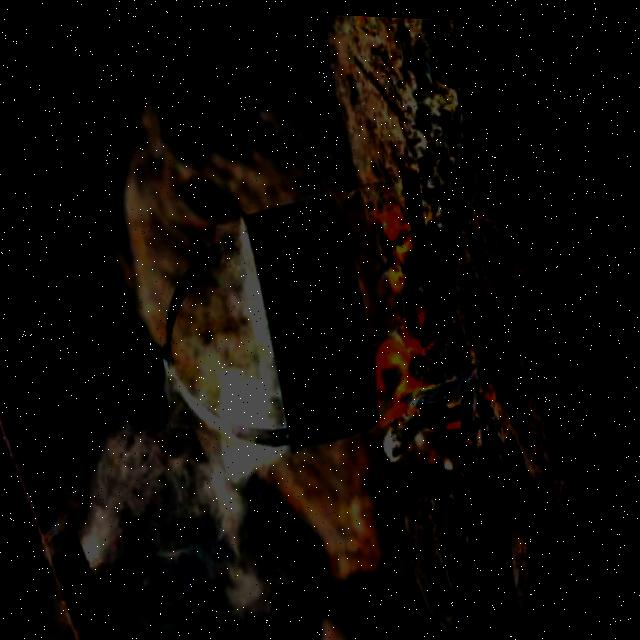Fire: (326, 184, 497, 447)
Smoke: (3, 204, 322, 584)
